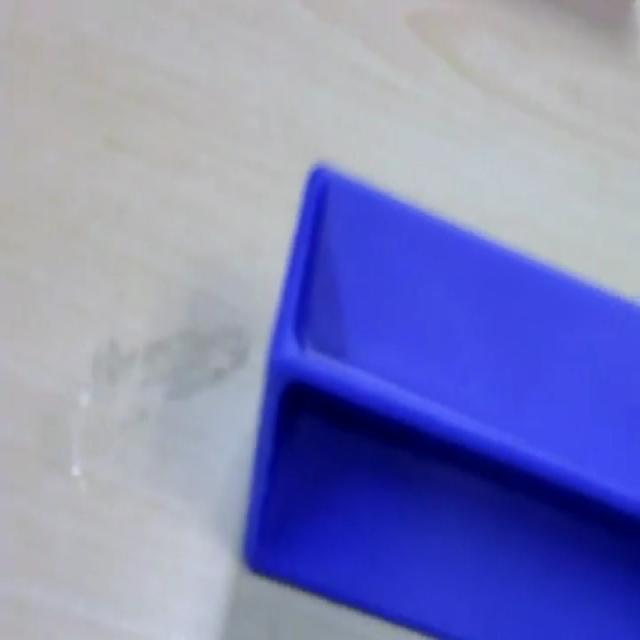blue_block: (241, 159, 638, 636)
